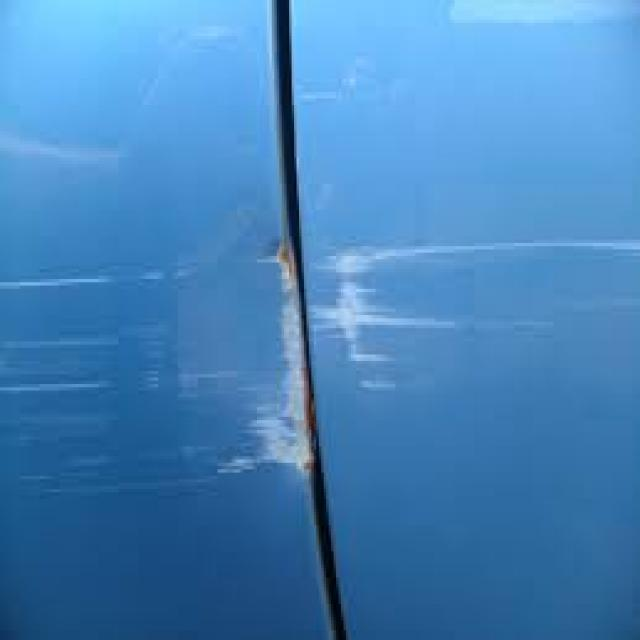dent-or-scratch: (0, 236, 640, 490)
